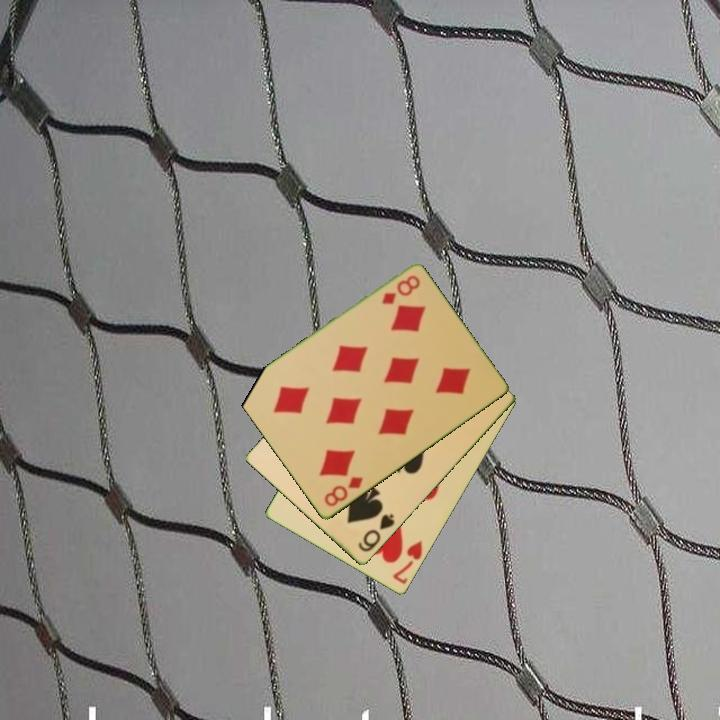6s: (355, 510, 398, 555)
7h: (389, 537, 425, 588)
8d: (320, 473, 366, 510), (378, 272, 423, 308)
